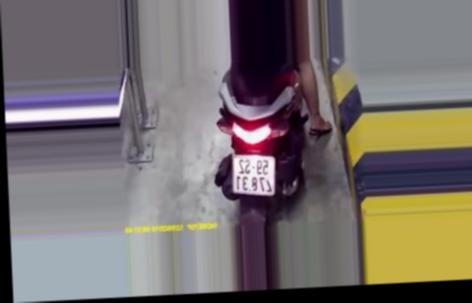License_Plate: (227, 153, 279, 195)
